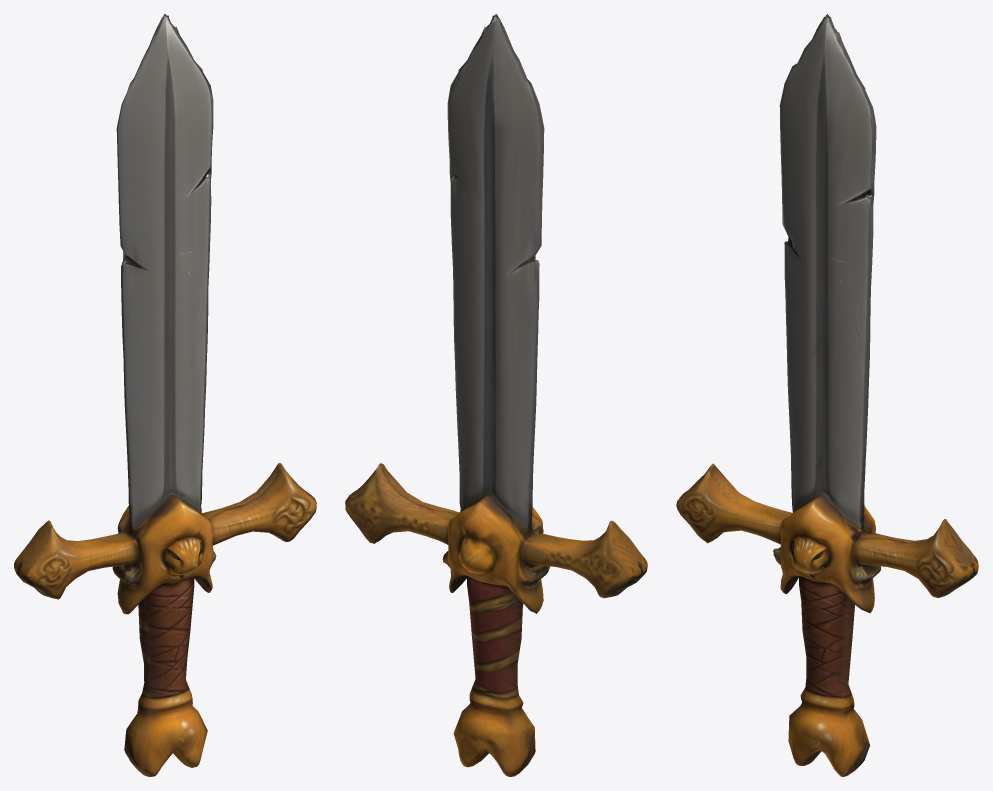
File: Catblade_Emblem_0526133316_texture.fbx
3 views of the same model, side by side, from view 1: azimuth 30°, elevation 25°; view 2: azimuth 150°, elevation 25°; view 3: azimuth 330°, elevation 25° (orthographic).
Parts seen in each view (by area): view 1: input; view 2: input; view 3: input.
Part boxes in pixels (left/top/right/bottom): input: left=14, top=14, right=316, bottom=776; input: left=345, top=14, right=647, bottom=776; input: left=676, top=14, right=978, bottom=776.
Size of the model in its own units: 79.85 by 197 by 24.88.
1 material, 1 textured.
